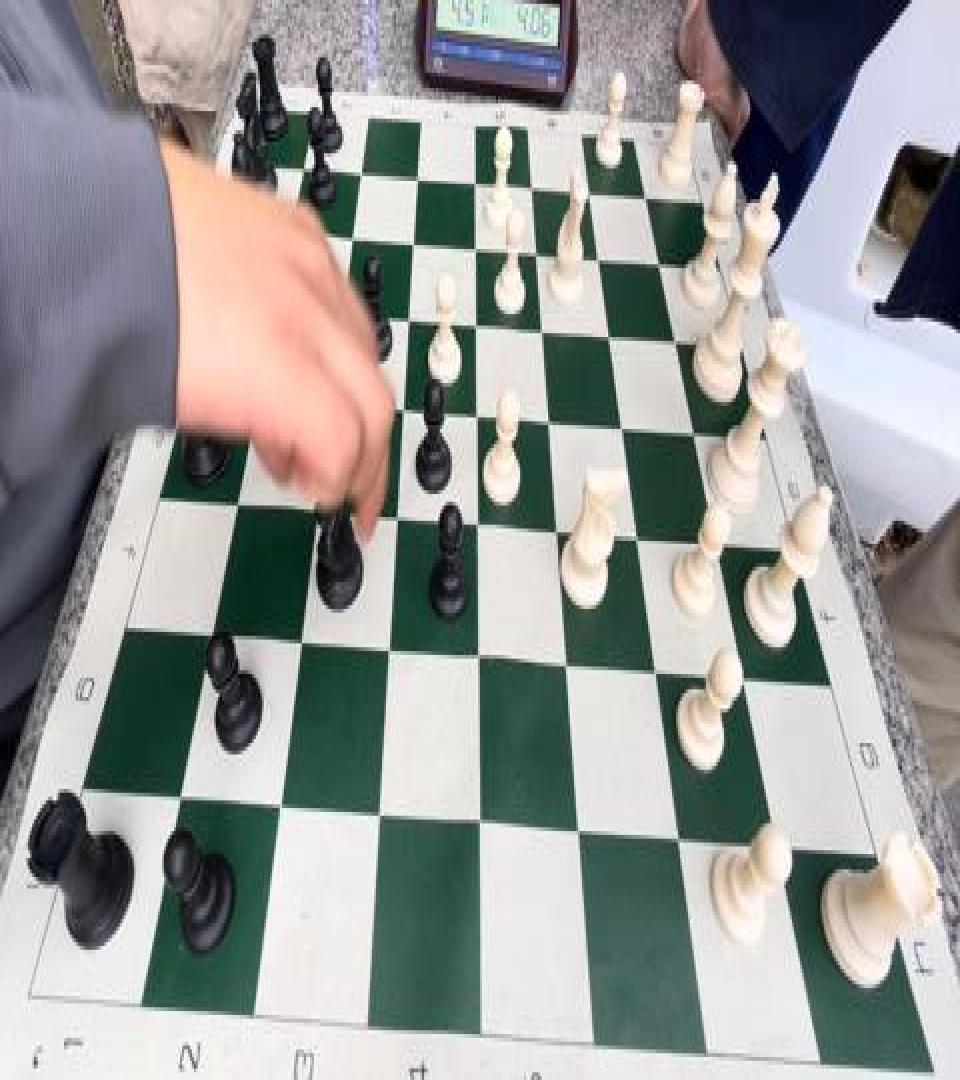xcorner: (169, 777, 191, 820), (766, 827, 788, 870), (200, 616, 222, 659), (289, 624, 311, 667), (467, 639, 489, 682), (556, 647, 578, 690), (733, 662, 755, 705), (276, 212, 298, 255), (346, 153, 368, 196), (578, 172, 600, 215), (269, 787, 291, 829), (369, 794, 391, 836), (468, 802, 490, 844), (568, 812, 590, 854), (667, 820, 689, 862), (378, 632, 400, 674), (644, 655, 666, 697), (224, 486, 246, 528), (305, 494, 327, 536), (385, 500, 407, 542), (466, 508, 488, 550), (546, 514, 568, 556), (626, 521, 648, 563), (706, 528, 728, 570), (244, 379, 266, 421), (318, 385, 340, 427), (391, 392, 413, 434), (538, 404, 560, 446), (611, 412, 633, 454), (261, 289, 283, 331), (329, 295, 351, 337), (396, 300, 418, 342), (531, 312, 553, 354), (598, 318, 620, 360), (665, 324, 687, 366), (401, 224, 423, 266), (463, 230, 485, 272), (525, 236, 547, 278), (587, 240, 609, 282), (650, 245, 672, 287), (288, 148, 310, 190), (404, 157, 426, 199), (462, 163, 484, 205), (520, 168, 542, 210), (636, 178, 658, 220), (465, 399, 487, 440), (684, 418, 706, 459), (464, 307, 486, 348), (338, 219, 360, 260)
